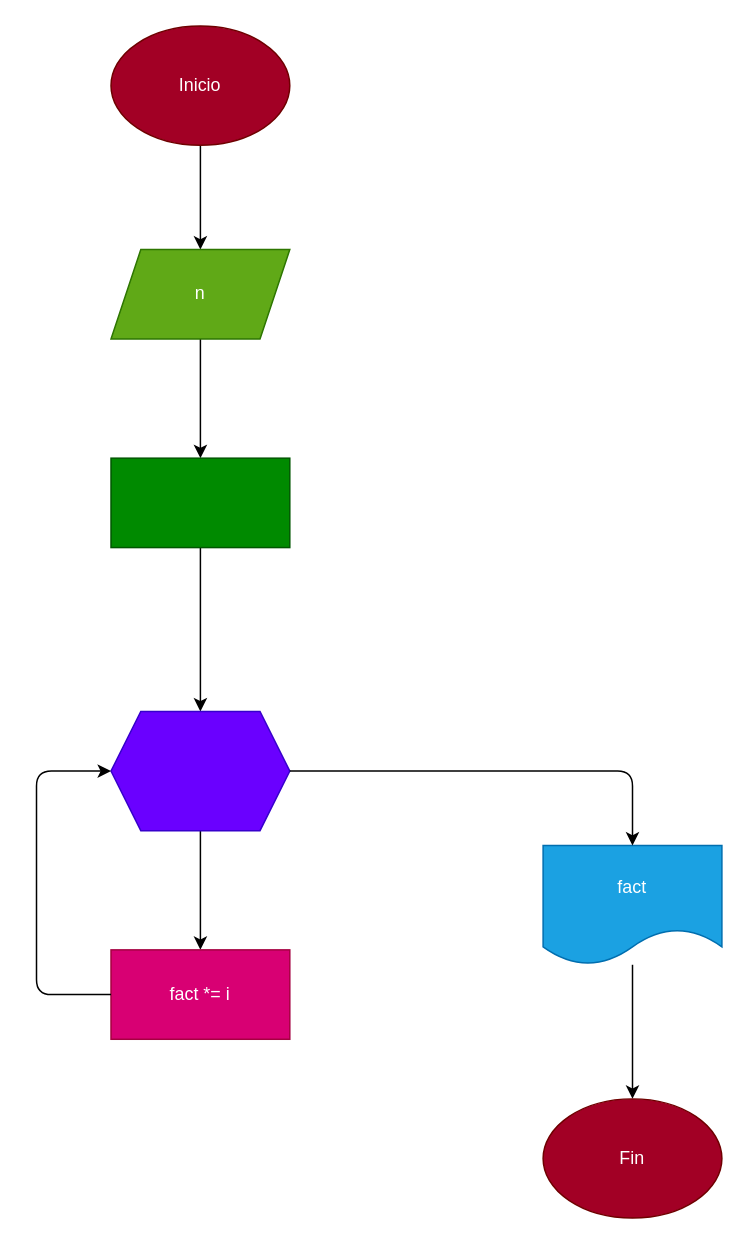
Image size: 748x1244. Some labels were removed from this diagram. Each missing label, with the box of its shape:
fact = 1: (110, 457, 290, 548)
i in 1, n+1: (110, 710, 290, 831)
